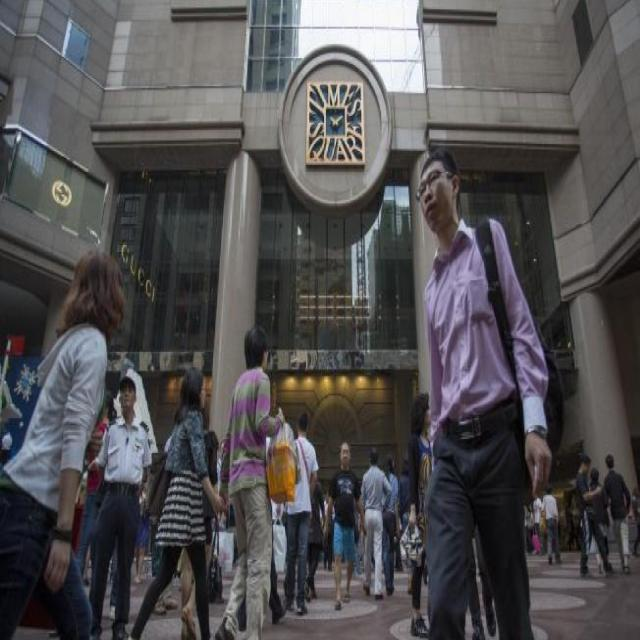body: (412, 139, 552, 639), (0, 246, 129, 639), (126, 362, 228, 639), (211, 320, 299, 639), (80, 372, 154, 639), (234, 400, 285, 636), (148, 404, 192, 618), (177, 398, 213, 639), (398, 389, 432, 639), (281, 407, 320, 619), (76, 386, 118, 580), (324, 438, 364, 611), (74, 470, 118, 596), (360, 446, 392, 603), (461, 519, 496, 640), (573, 452, 604, 576), (603, 453, 632, 575), (210, 432, 234, 579), (302, 471, 324, 606), (585, 464, 611, 576), (381, 454, 400, 597), (201, 431, 220, 571), (352, 478, 374, 580), (394, 453, 413, 570), (132, 487, 152, 585), (543, 485, 562, 567), (321, 485, 336, 574), (560, 476, 574, 556), (134, 411, 162, 440), (530, 488, 542, 555), (523, 501, 535, 555), (631, 486, 639, 558)
